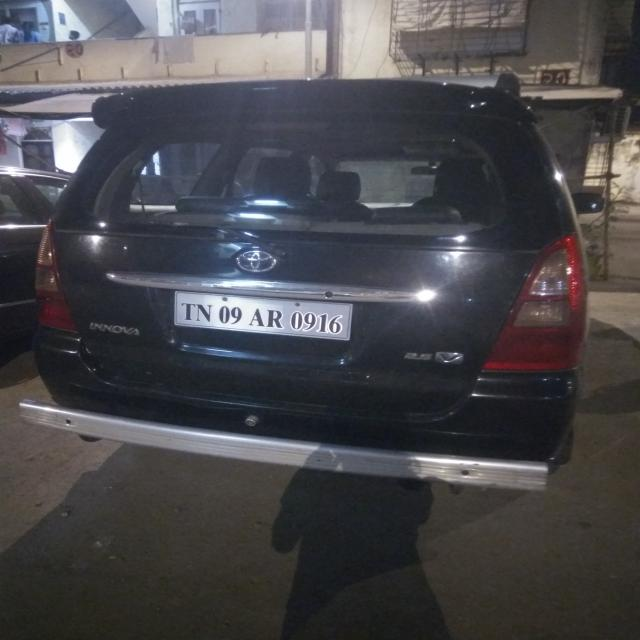Number-Plate: (172, 295, 349, 334)
